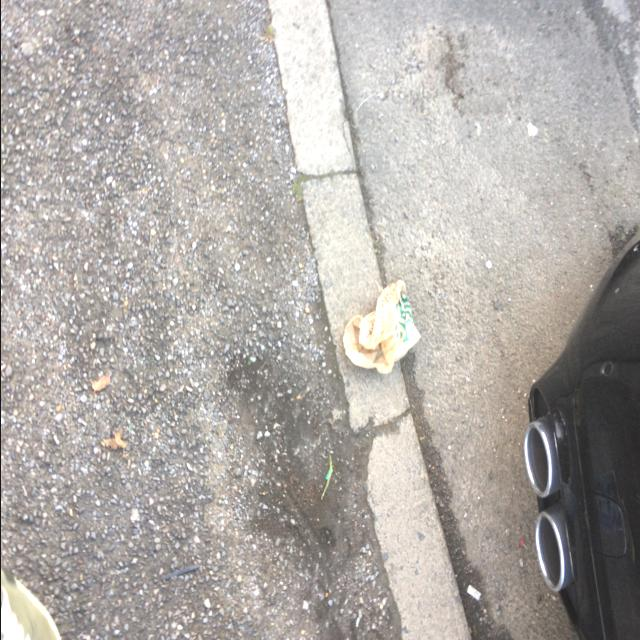Cigarette: (466, 586, 480, 601)
Paper bag: (342, 280, 419, 374)
